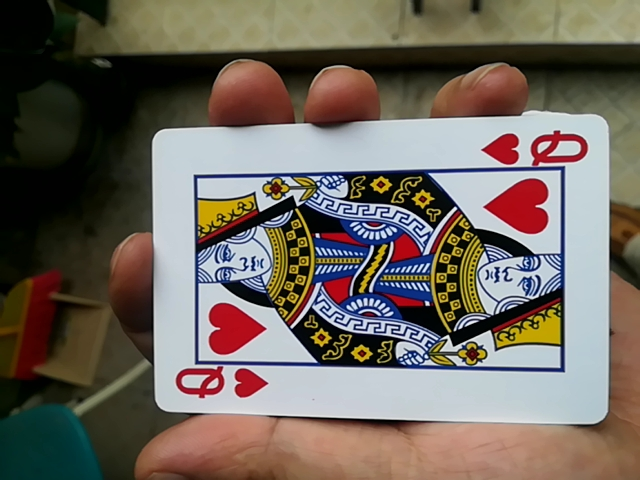hx q: (138, 111, 613, 431)
